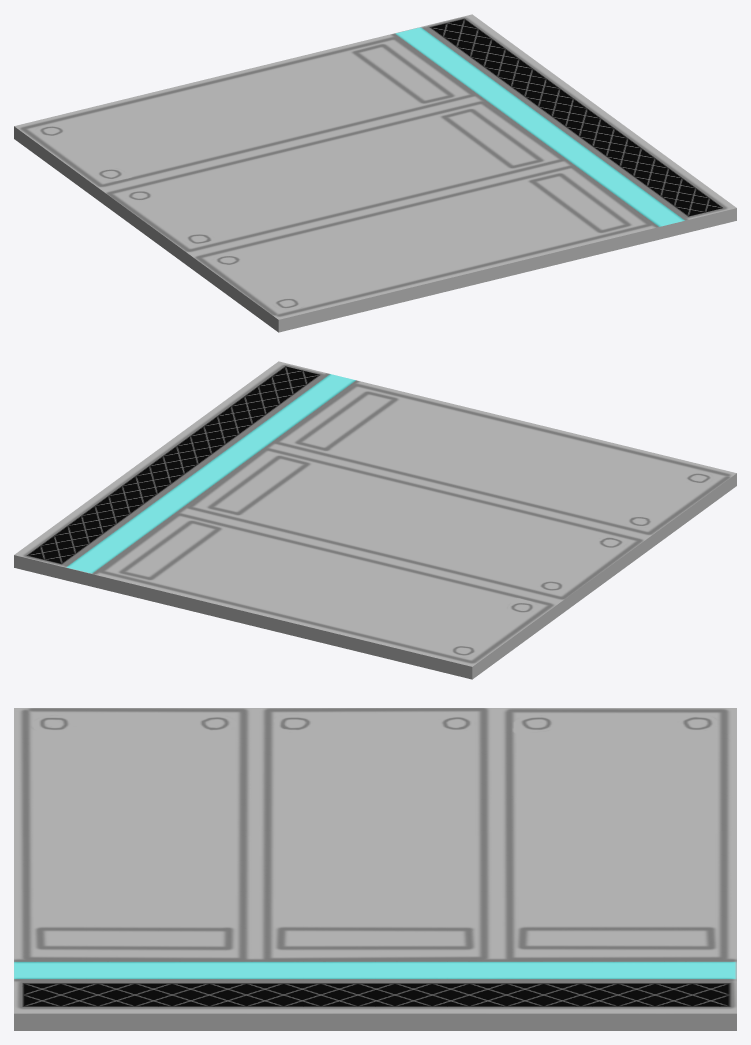
Rendered from floor.fbx.
3 renders of one model, top to bottom at view 1: azimuth 30°, elevation 25°; view 2: azimuth 150°, elevation 25°; view 3: azimuth 270°, elevation 25°, orthographic. The views are drawn at different scales.
Parts seen in each view (by area): view 1: pasted__pPlane1; view 2: pasted__pPlane1; view 3: pasted__pPlane1.
Part boxes in pixels (bbox=[...]): pasted__pPlane1: bbox=[14, 14, 736, 332]; pasted__pPlane1: bbox=[14, 361, 736, 679]; pasted__pPlane1: bbox=[14, 708, 736, 1030].
Size of the model in its own units: 16 by 0.4243 by 16.
